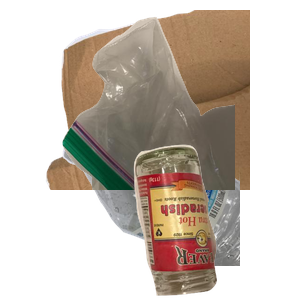cardboard: (43, 10, 283, 190)
glass: (131, 142, 300, 300)
plastic: (60, 120, 300, 300)
trash: (60, 14, 300, 194)
